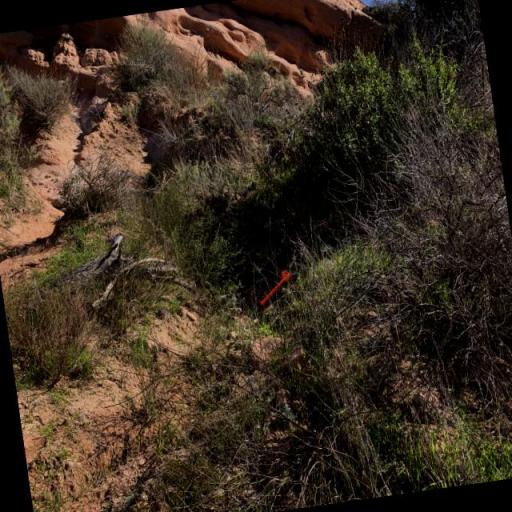mallet: (250, 268, 300, 308)
